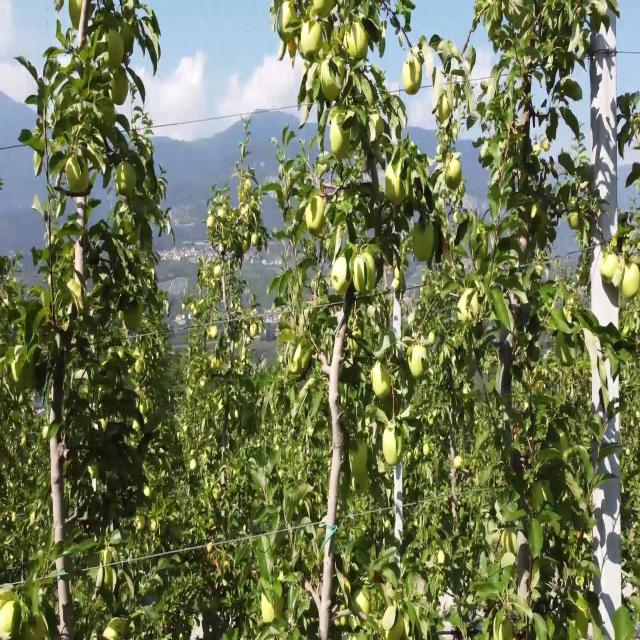apple: (320, 53, 345, 101), (412, 222, 438, 262), (65, 153, 89, 196), (352, 251, 376, 291), (385, 162, 406, 207), (344, 22, 368, 58), (381, 604, 405, 640), (330, 116, 350, 159), (401, 56, 422, 96), (300, 20, 322, 58), (382, 424, 401, 467), (305, 196, 325, 236), (331, 256, 351, 294), (21, 613, 48, 640), (621, 262, 640, 300), (371, 362, 391, 398), (278, 0, 298, 36), (115, 162, 136, 196), (110, 67, 129, 104), (98, 100, 116, 139), (349, 440, 368, 476), (408, 344, 428, 378), (21, 613, 46, 640), (349, 442, 368, 476), (108, 29, 124, 69), (600, 251, 619, 282), (16, 360, 35, 391), (0, 600, 15, 639), (122, 302, 142, 331), (445, 156, 461, 189), (30, 613, 48, 640), (494, 616, 514, 640), (120, 20, 134, 53), (261, 593, 275, 624), (312, 0, 335, 18), (351, 469, 368, 493), (370, 111, 385, 137), (500, 529, 516, 553), (438, 93, 451, 122), (530, 200, 548, 220), (501, 529, 516, 553), (102, 564, 114, 591), (534, 211, 548, 233), (391, 264, 402, 292), (288, 36, 298, 63), (439, 342, 451, 364), (535, 229, 548, 249), (135, 513, 146, 533), (568, 211, 580, 229), (206, 324, 218, 340), (210, 356, 222, 371), (342, 573, 351, 593), (422, 440, 431, 458), (249, 322, 259, 338), (206, 213, 216, 229), (534, 262, 544, 278), (212, 262, 222, 278), (530, 202, 539, 219), (250, 231, 259, 246), (199, 376, 206, 389), (234, 302, 240, 311)
